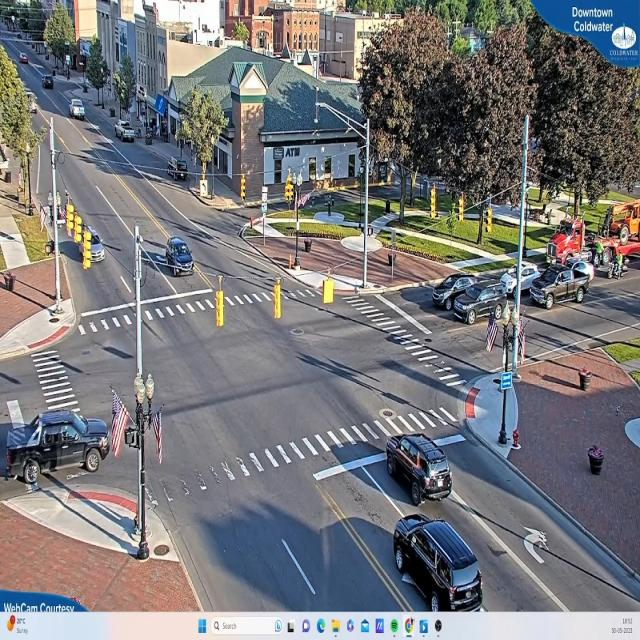car: (394, 513, 484, 609), (3, 409, 112, 488), (388, 433, 454, 504), (530, 262, 592, 310), (456, 275, 504, 326), (502, 252, 540, 295), (431, 272, 469, 308), (168, 234, 194, 281), (118, 120, 138, 142), (70, 100, 85, 118), (45, 79, 55, 90)
